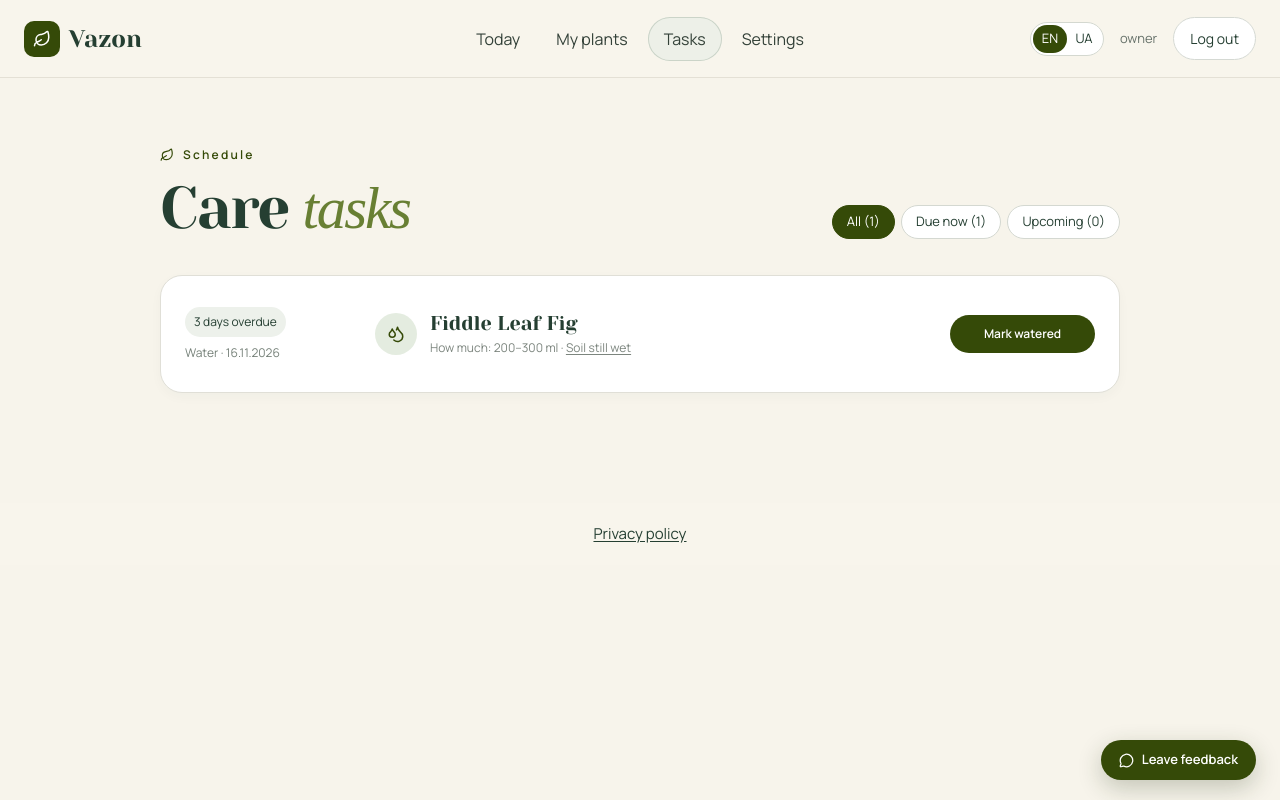
Scenario: care action confirmation › 409 TOO_EARLY: asks first, and logs with confirm only after "Log anyway"
The width and height of the screenshot is (1280, 800).
Later steps or results of the test are not shown.
Click the button "Mark watered". click: (1022, 334)
box: [950,315,1095,353]
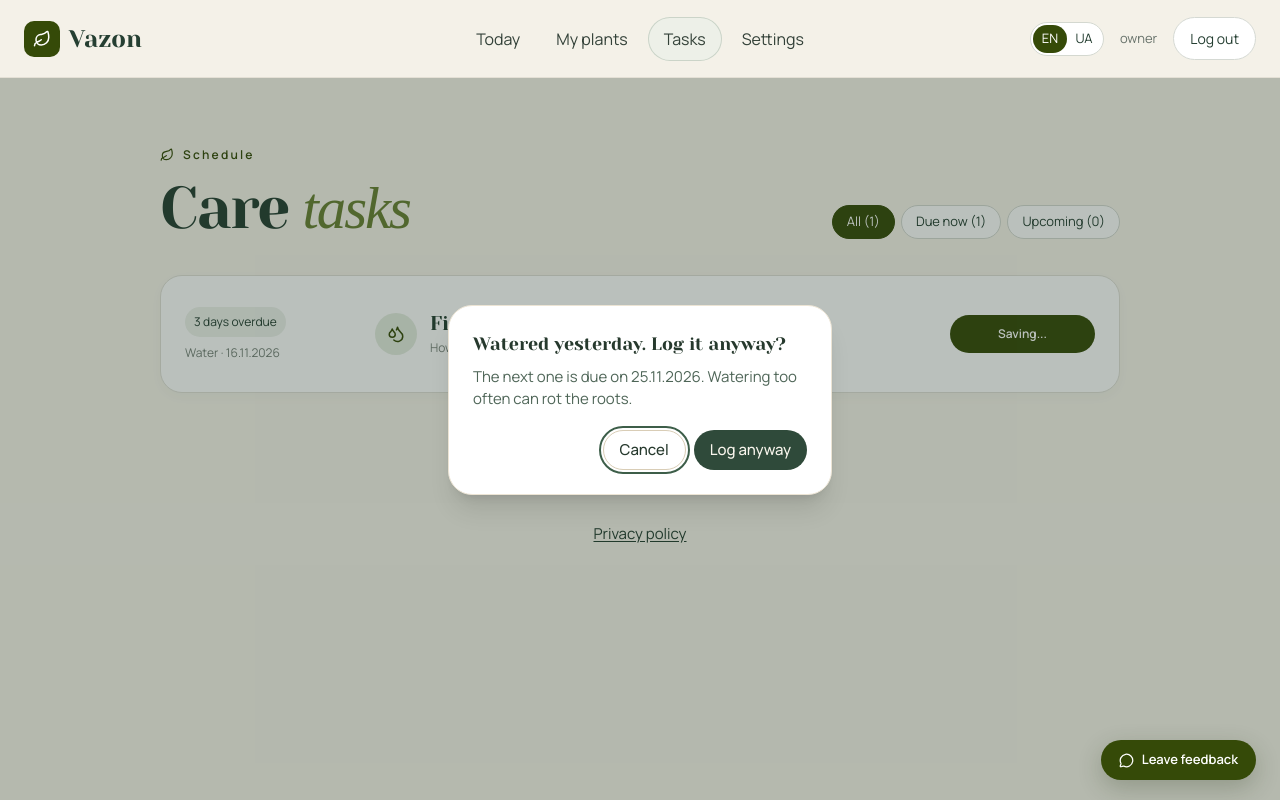
Result: the dialog shows "Watered yesterday. Log it anyway?" at [473,334,786,354]
Result: the dialog shows "25.11.2026" at [473,366,797,409]
